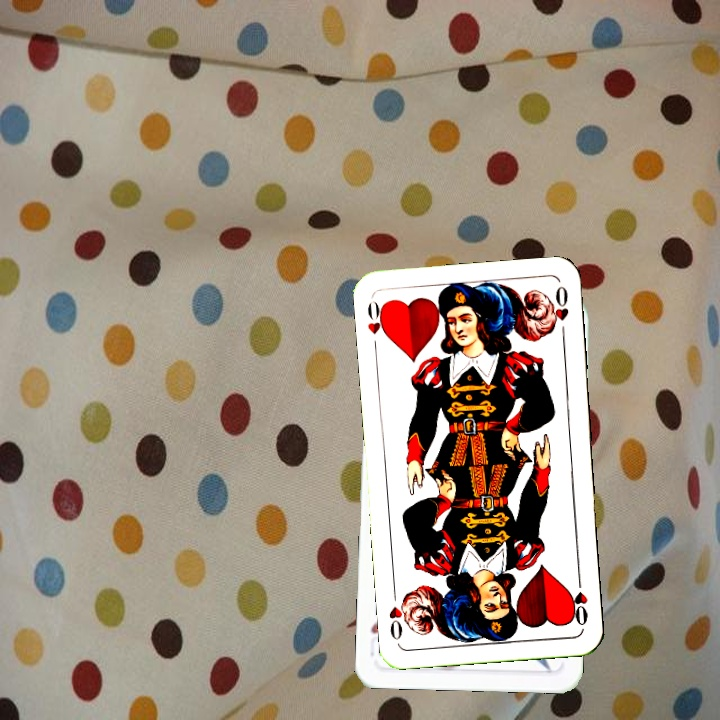HO: (363, 296, 390, 354), (569, 570, 590, 629)
